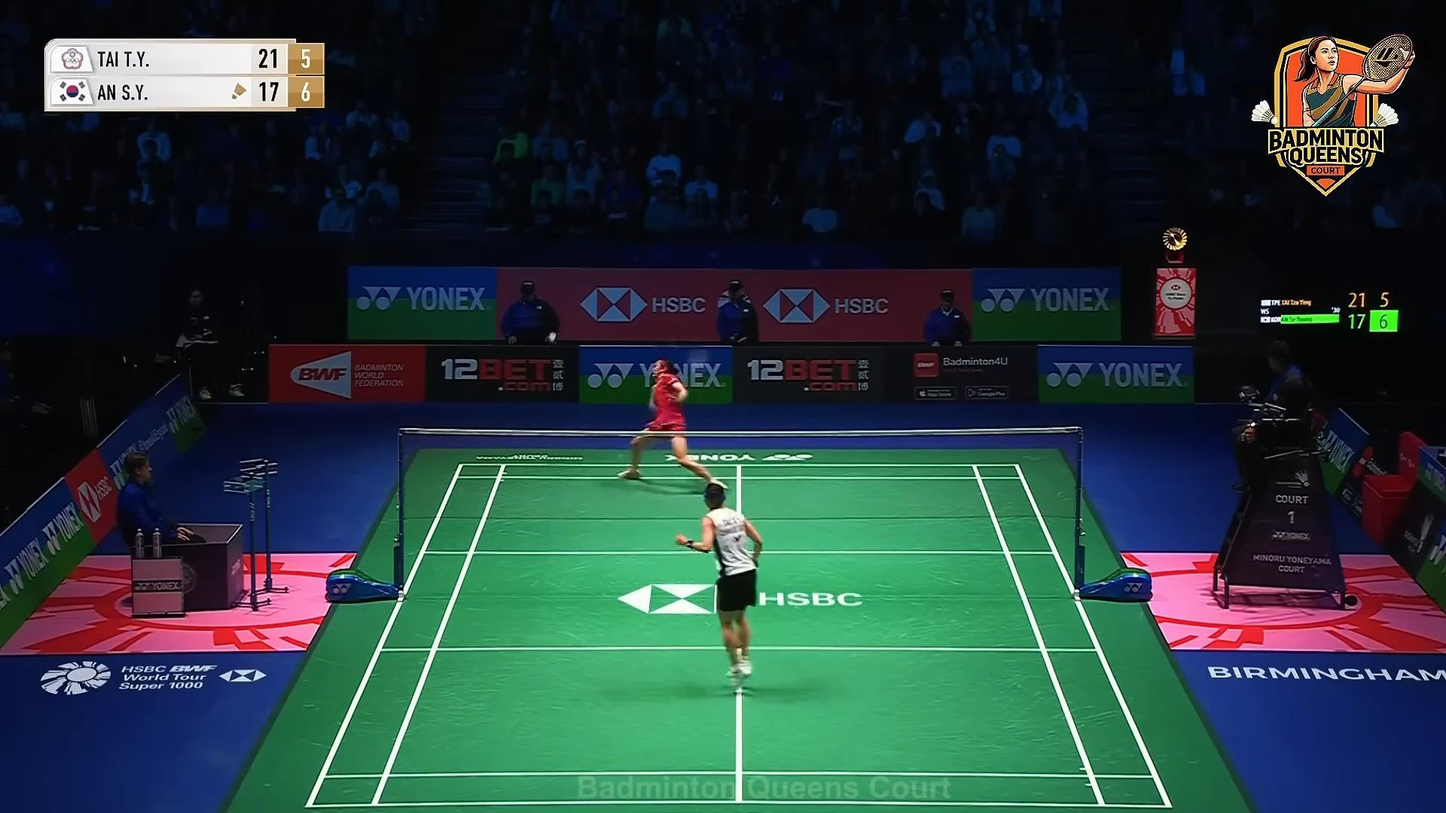player: (677, 481, 764, 688), (618, 358, 726, 492)
shuttlecock: (547, 331, 557, 343)
